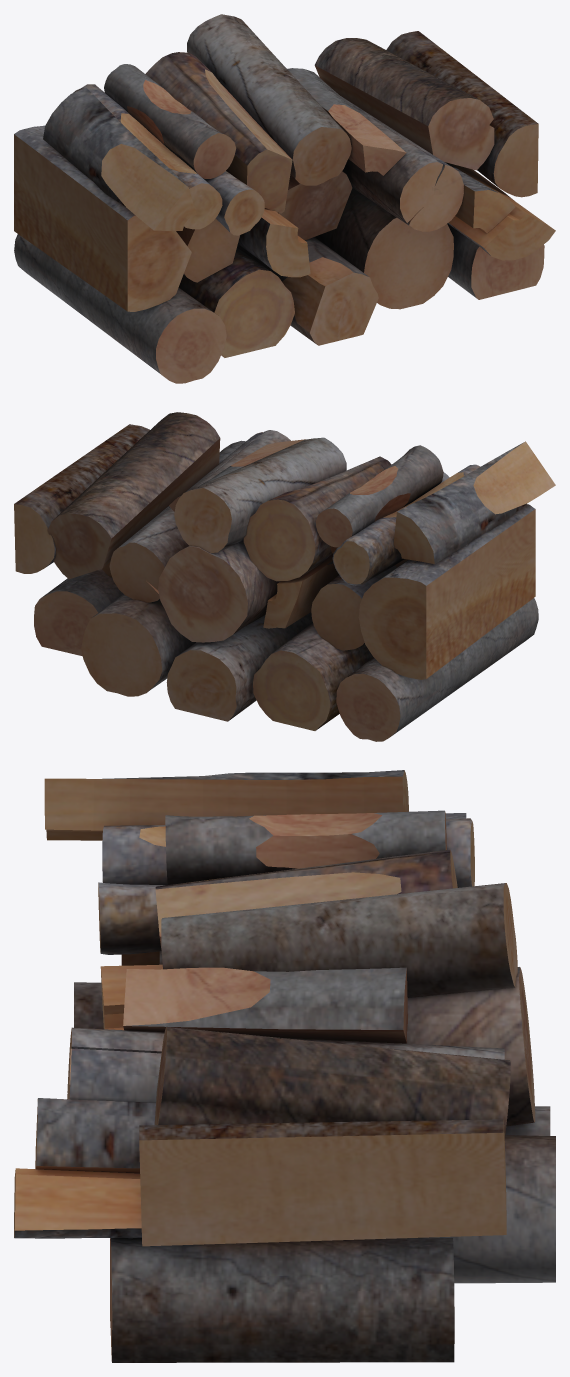
The model's file is Firewood.fbx.
3 views of the same model, one above another, from view 1: azimuth 30°, elevation 25°; view 2: azimuth 150°, elevation 25°; view 3: azimuth 270°, elevation 25° (orthographic). The views are drawn at different scales.
Visible parts, largest first — view 1: Object001; view 2: Object001; view 3: Object001.
Part boxes in pixels (bbox=[...]): Object001: bbox=[14, 14, 555, 383]; Object001: bbox=[14, 412, 555, 741]; Object001: bbox=[14, 770, 555, 1362].
Bounding box in the file's own units: 823 × 419 × 611.
Materials: 1 (1 with a texture image).
